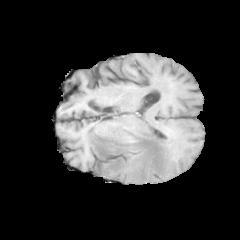glioma: (86, 125, 176, 181)
